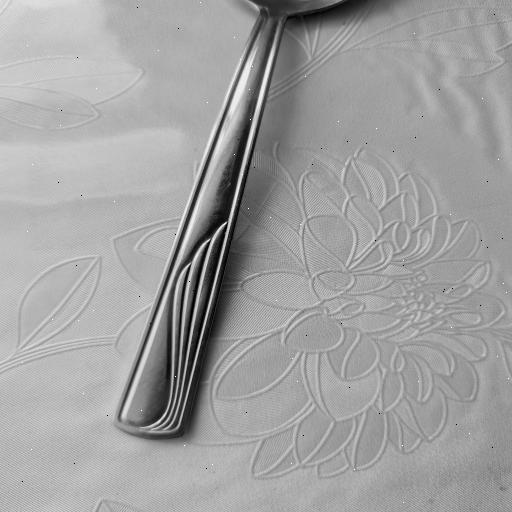spoon: (105, 0, 362, 436)
